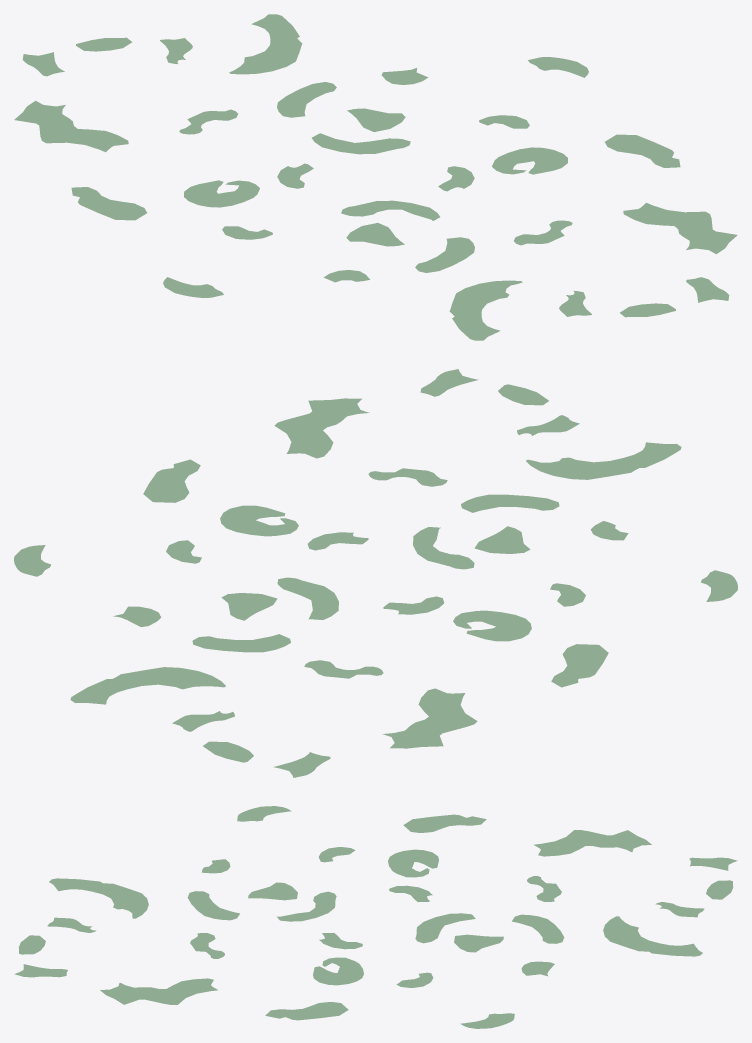
The model's file is ME_BushMap_Final.fbx.
The picture shows the model from 3 angles, top to bottom: view 1: azimuth 30°, elevation 25°; view 2: azimuth 150°, elevation 25°; view 3: azimuth 270°, elevation 25°; orthographic projection. The views are drawn at different scales.
Parts seen in each view (by area): view 1: Bushes; view 2: Bushes; view 3: Bushes.
Part boxes in pixels (x1,y1,x2,y2): Bushes: (14, 14, 737, 340); Bushes: (14, 369, 737, 777); Bushes: (14, 806, 737, 1028).
Size of the model in its own units: 6917 by 0.00155 by 9494.
